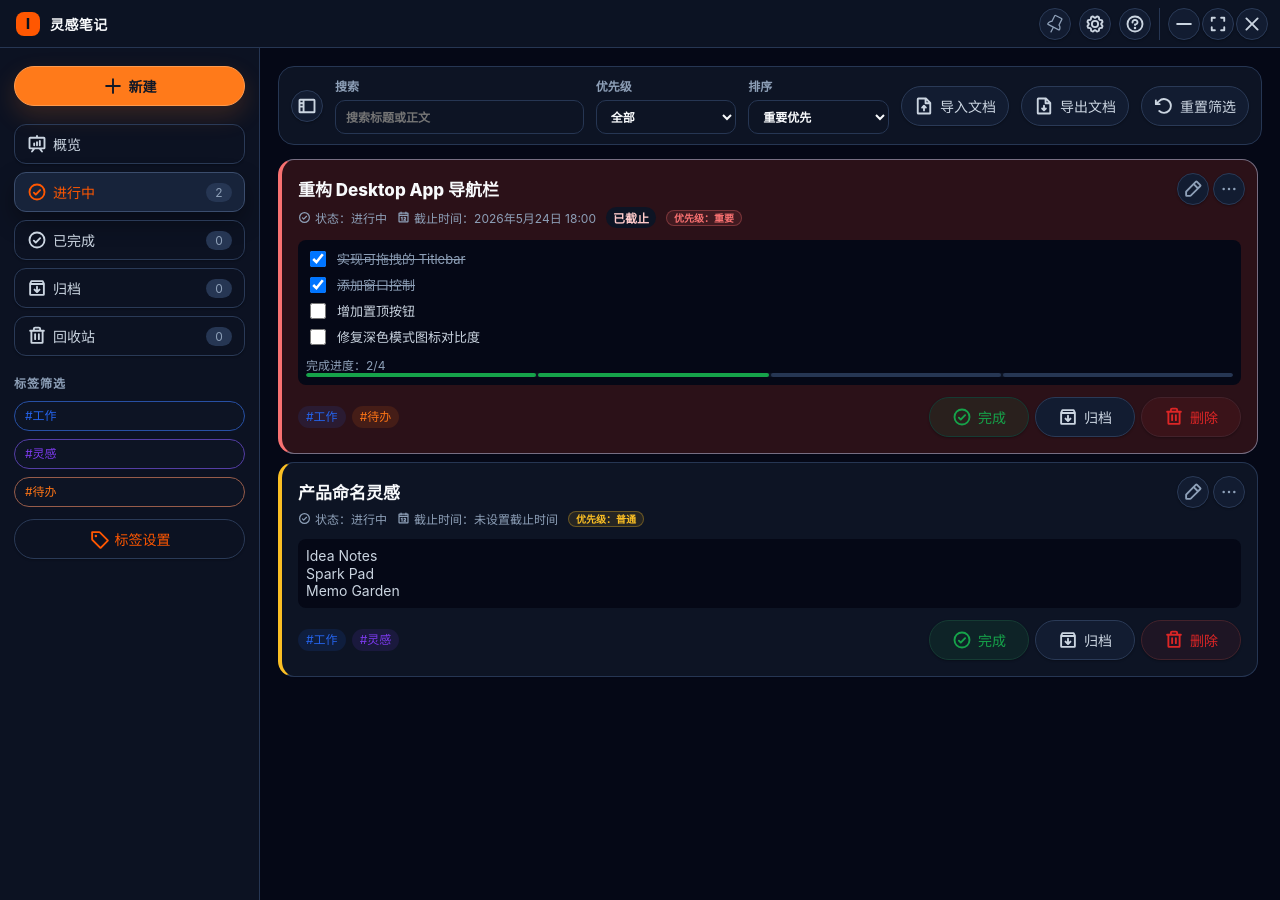
Test: App settings reset › 设置重置保存失败时保留确认弹窗和当前设置并显示错误提示
Click the button named "设置" at (1095,24), box [1079,8,1111,40]
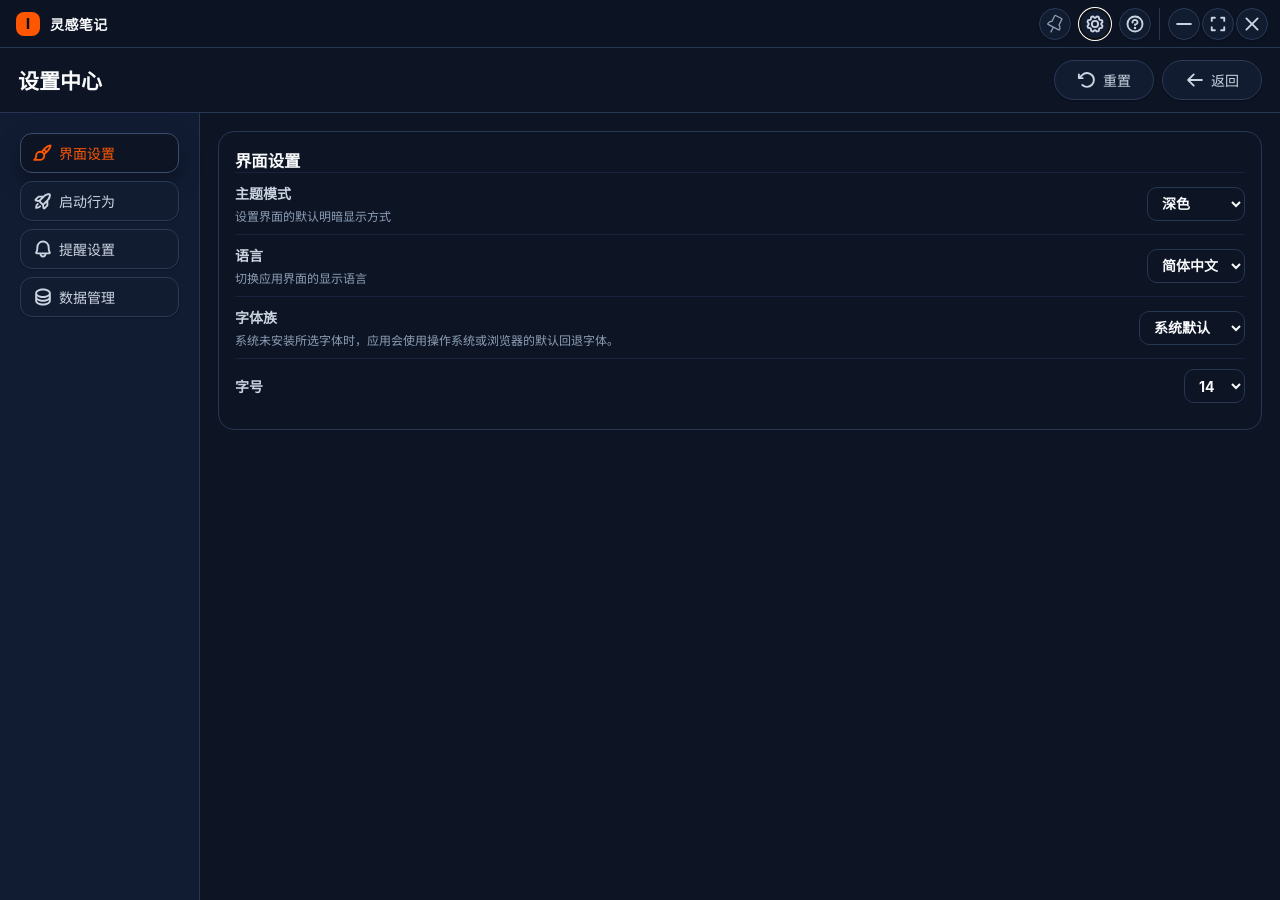
Click the button "重置" at (1104,80), box [1054,60,1154,100]
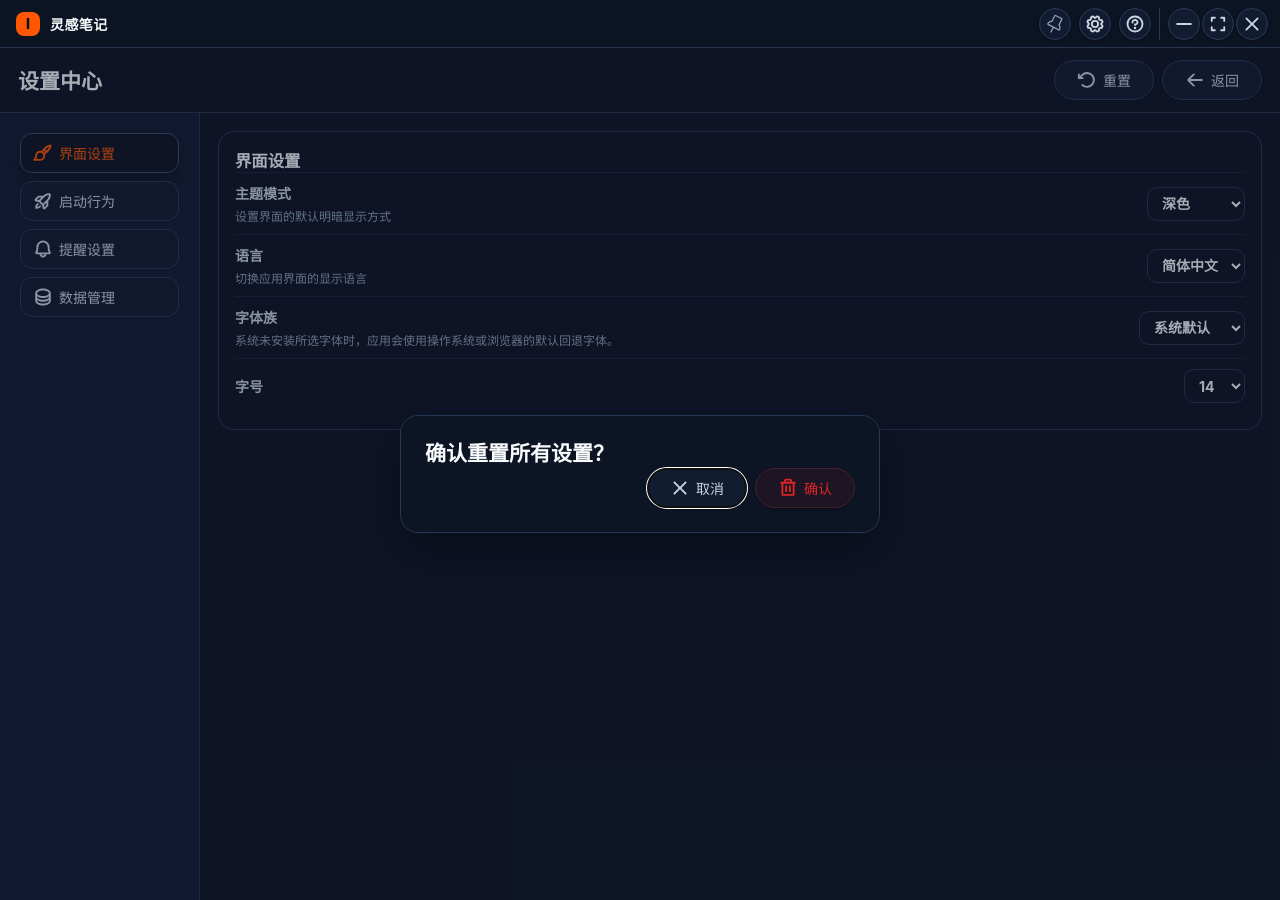
Click the button "确认" at (805,488), box [755,468,855,508]
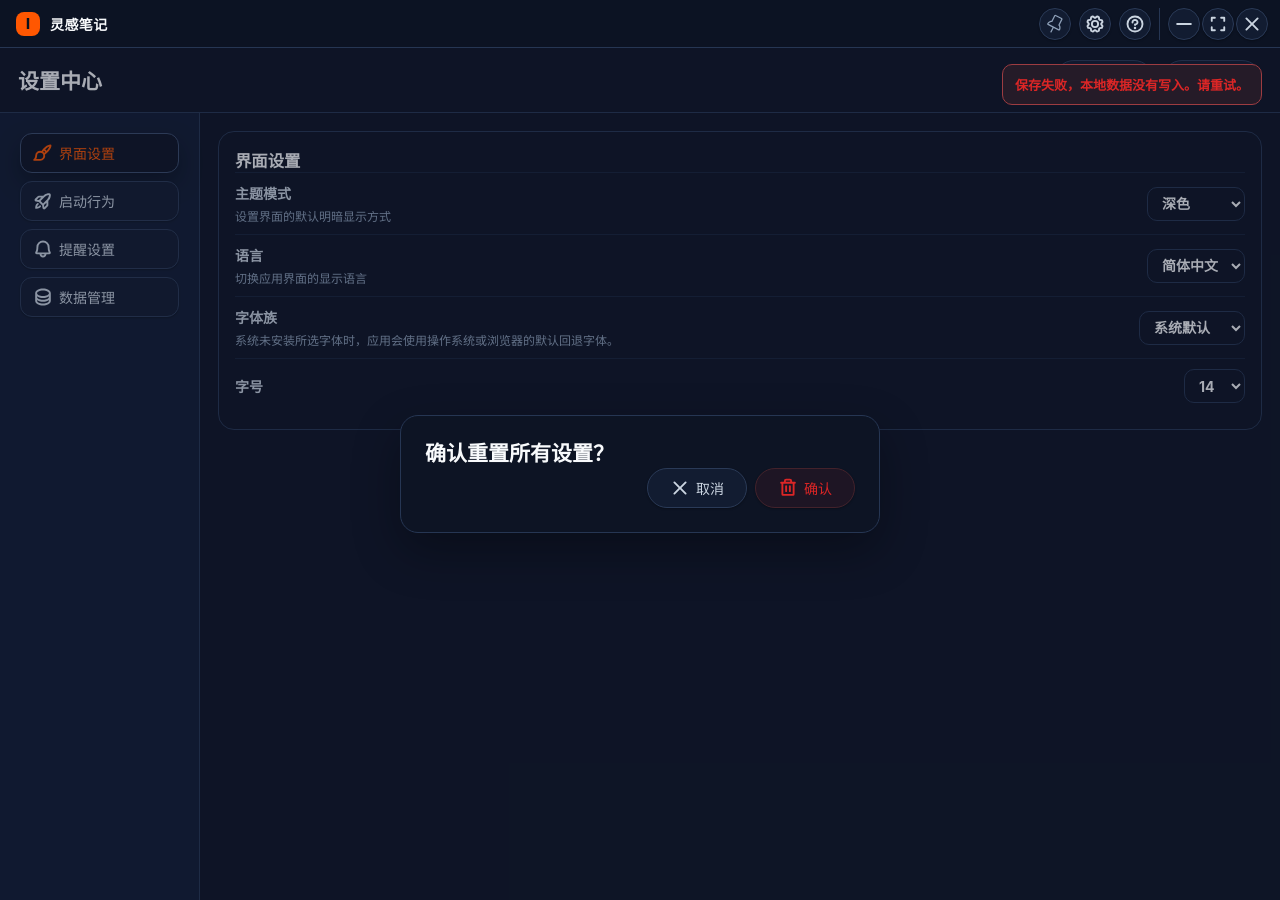
Result: the dialog "确认重置所有设置？" is shown at [400,415,880,533]
Result: the dropdown labelled "主题模式 设置界面的默认明暗显示方式" shows "深色" at [1147,186,1245,220]
Result: the message reads "保存失败，本地数据没有写入。请重试。" at [1015,77,1249,93]
